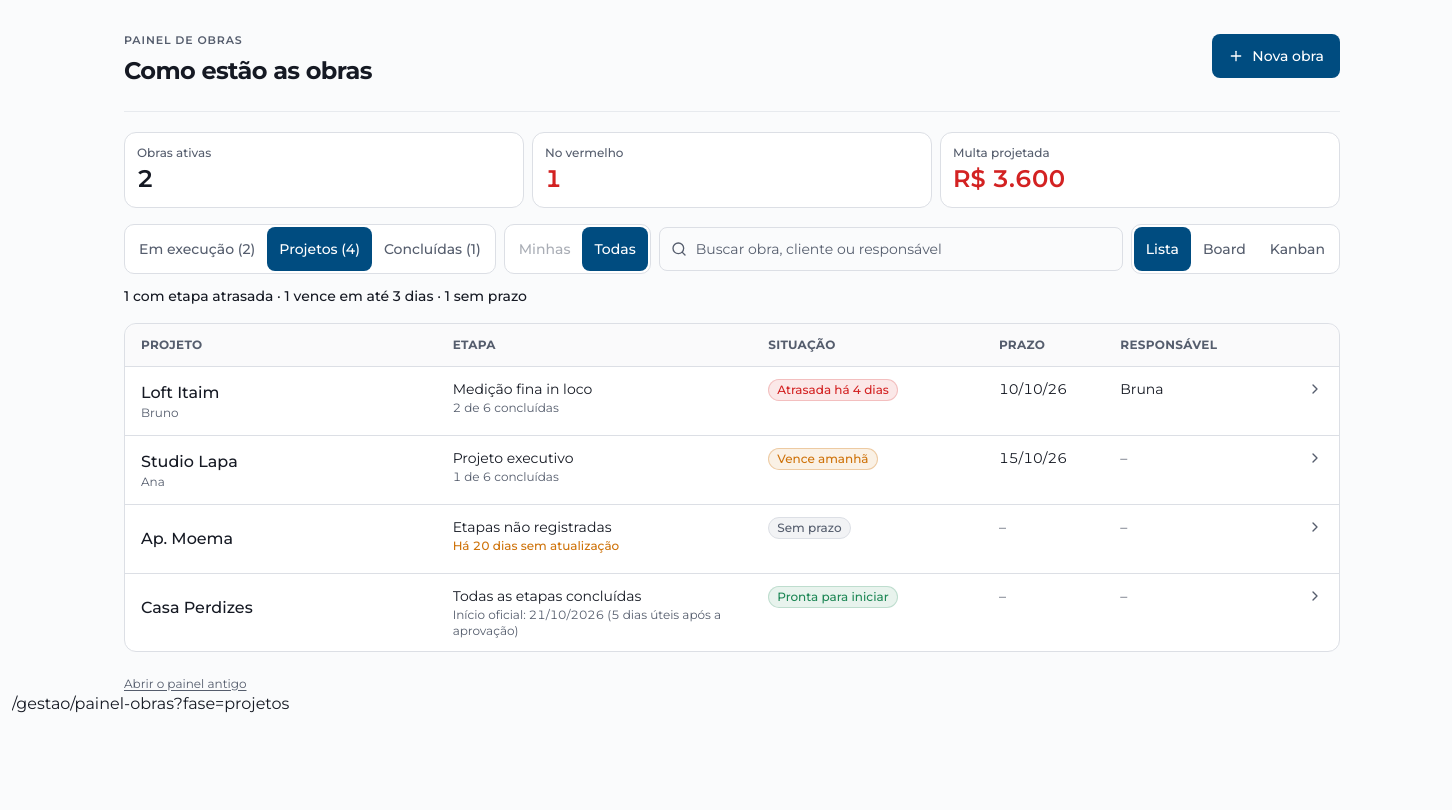
Test case: Painel de Obras reformulado › escritório › Projetos: fase de projeto › a busca acha pelo responsável da etapa
In the search field: (891, 248) [659,226,1123,270], type "bruna"
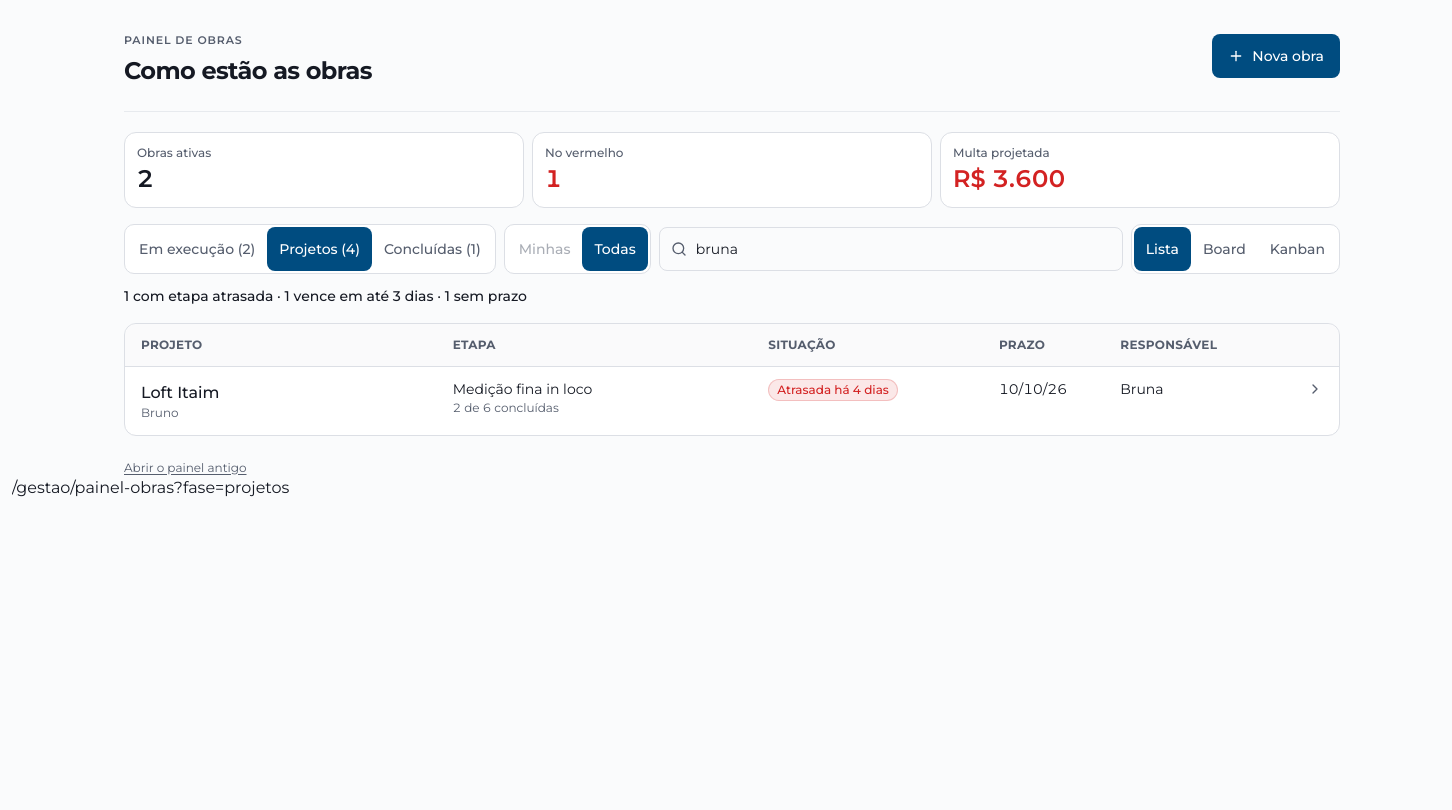
Check: the row "Loft Itaim" is shown, box [125,366,1339,434]
Check: the button "Studio Lapa" is gone
